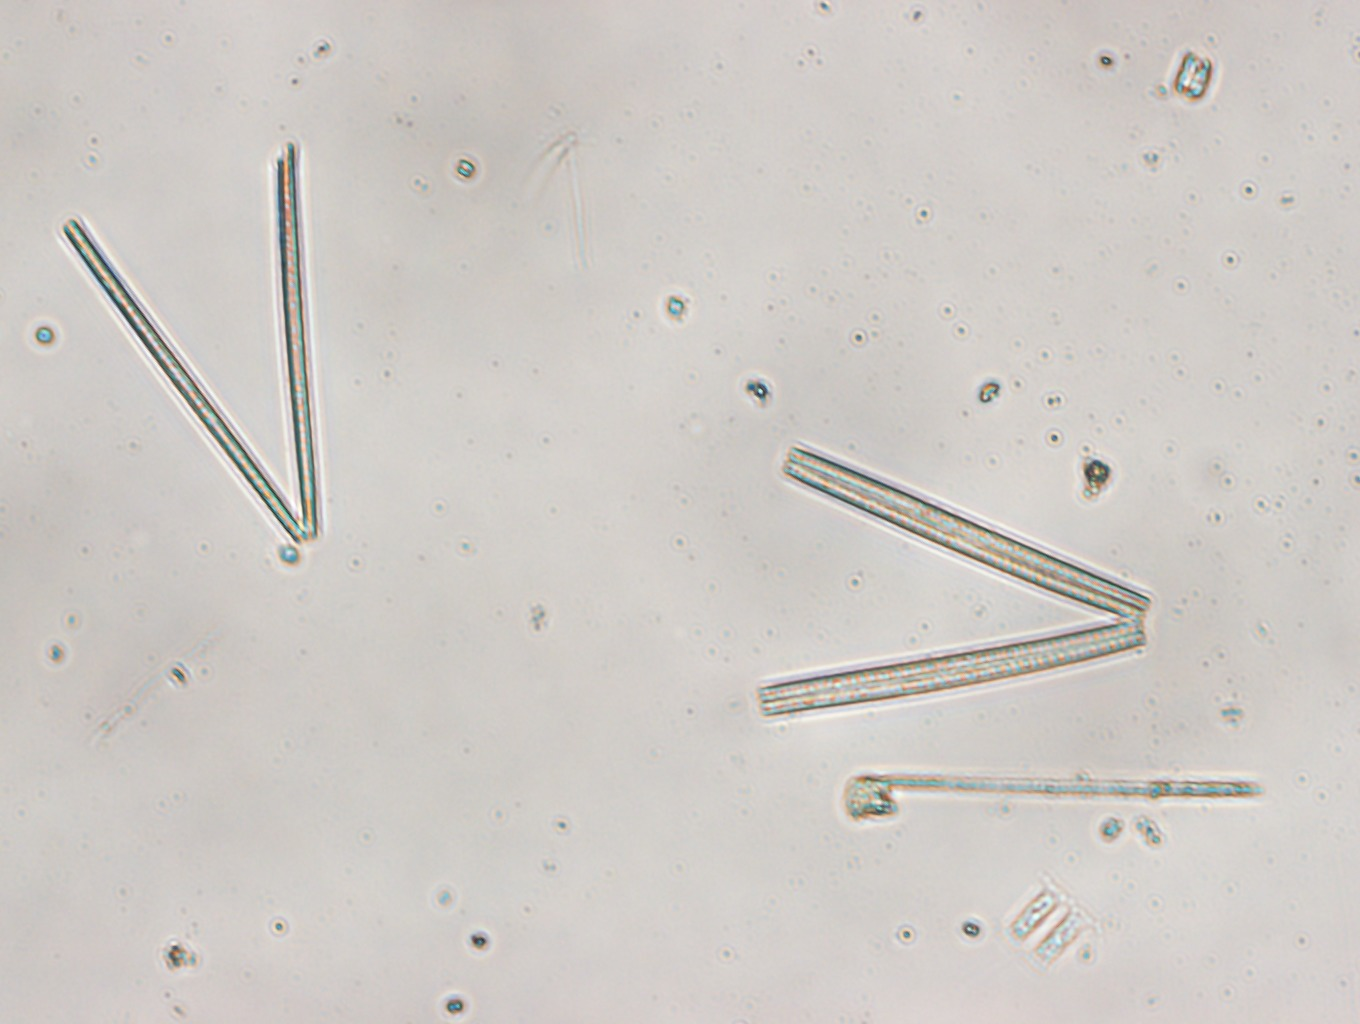thalassionema frauenfeldii: (753, 441, 1153, 720), (63, 136, 317, 542)
